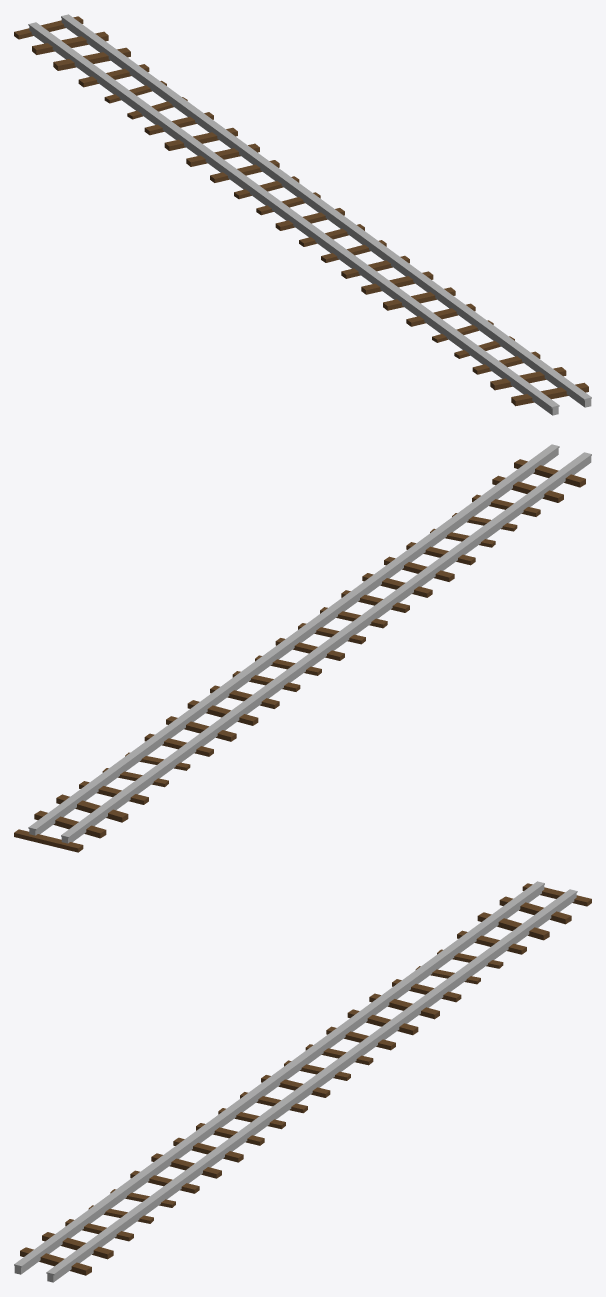
The model's file is Railway Tracks.glb.
The picture shows the model from 3 angles, top to bottom: view 1: azimuth 30°, elevation 25°; view 2: azimuth 150°, elevation 25°; view 3: azimuth 330°, elevation 25°; orthographic projection.
Visible parts, largest first — view 1: Root; view 2: Root; view 3: Root.
Part boxes in pixels (x1,y1,x2,y2): Root: (14,14,591,415); Root: (14,444,591,852); Root: (14,881,591,1282).
Bounding box in the file's own units: 1.1 × 0.1602 × 14.15.
